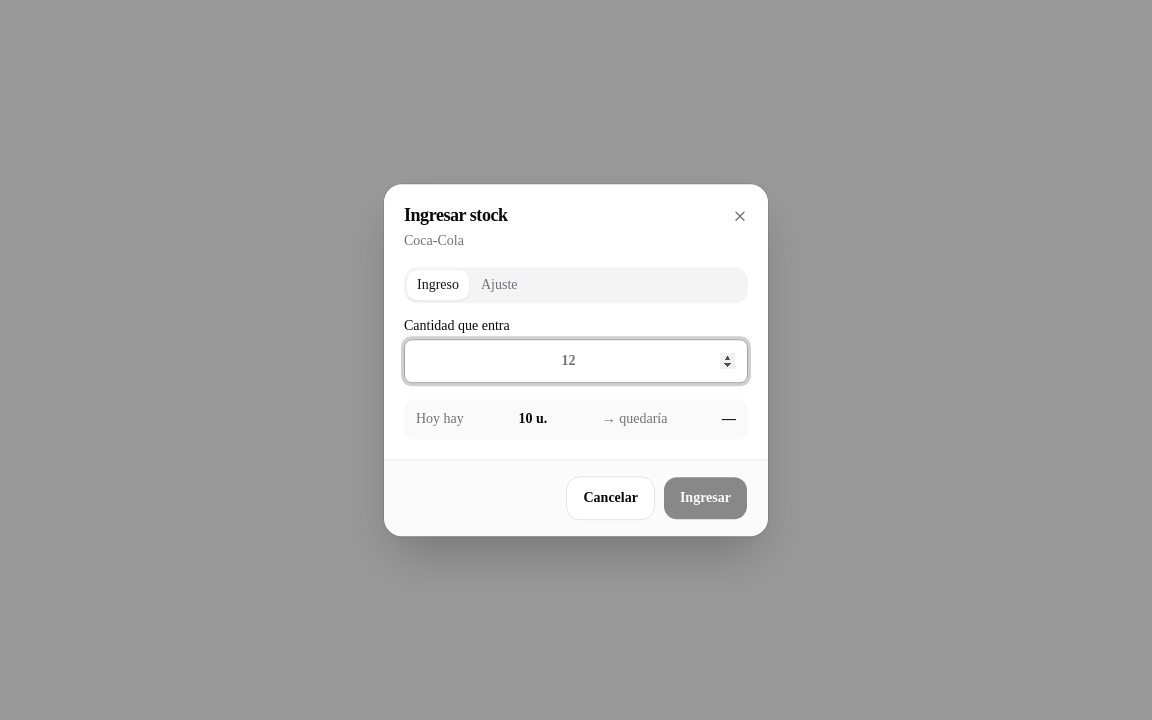
StockMovementModal — producto (bebidas/bar) › el preview muestra «hoy hay X → quedaría Y» al tipear la cantidad
This screenshot has width=1152, height=720.
Check: the text "10 u." is shown, box [518,409,547,429]
Check: the text with test id "mov-preview" reads "—", box [722,411,736,426]
Type "6" into the number field labelled "Cantidad que entra" at (576, 361), box [404,339,748,383]
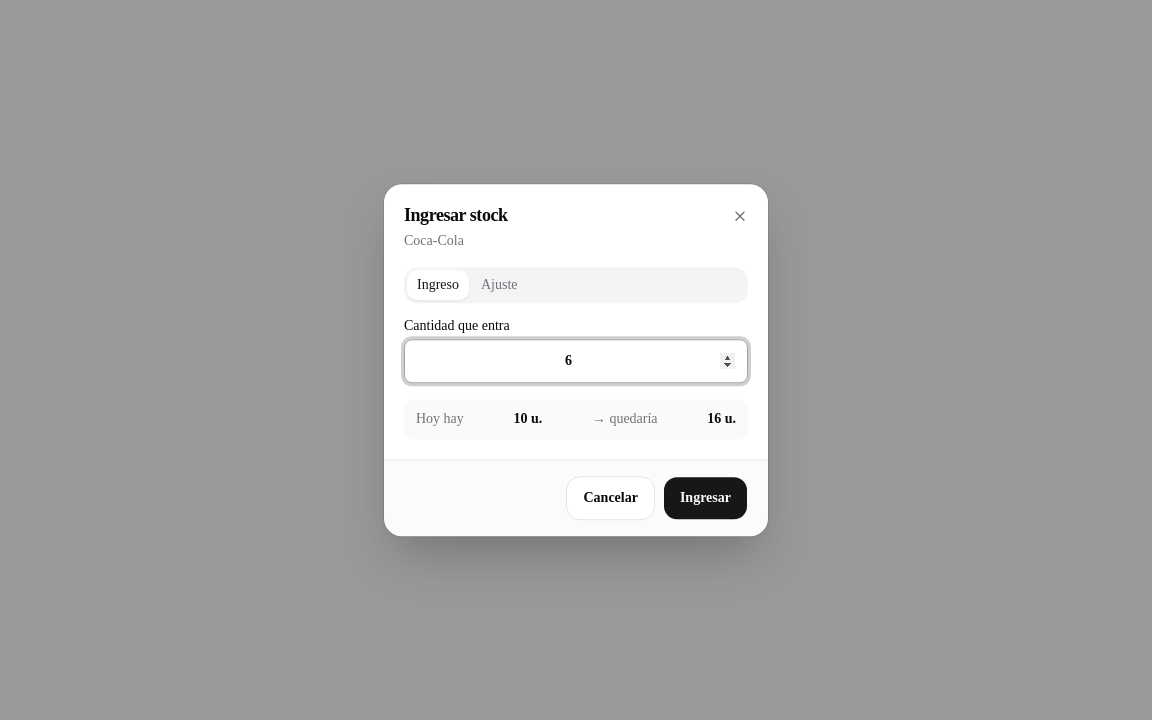
Check: the text with test id "mov-preview" reads "16 u.", box [707,411,736,426]
